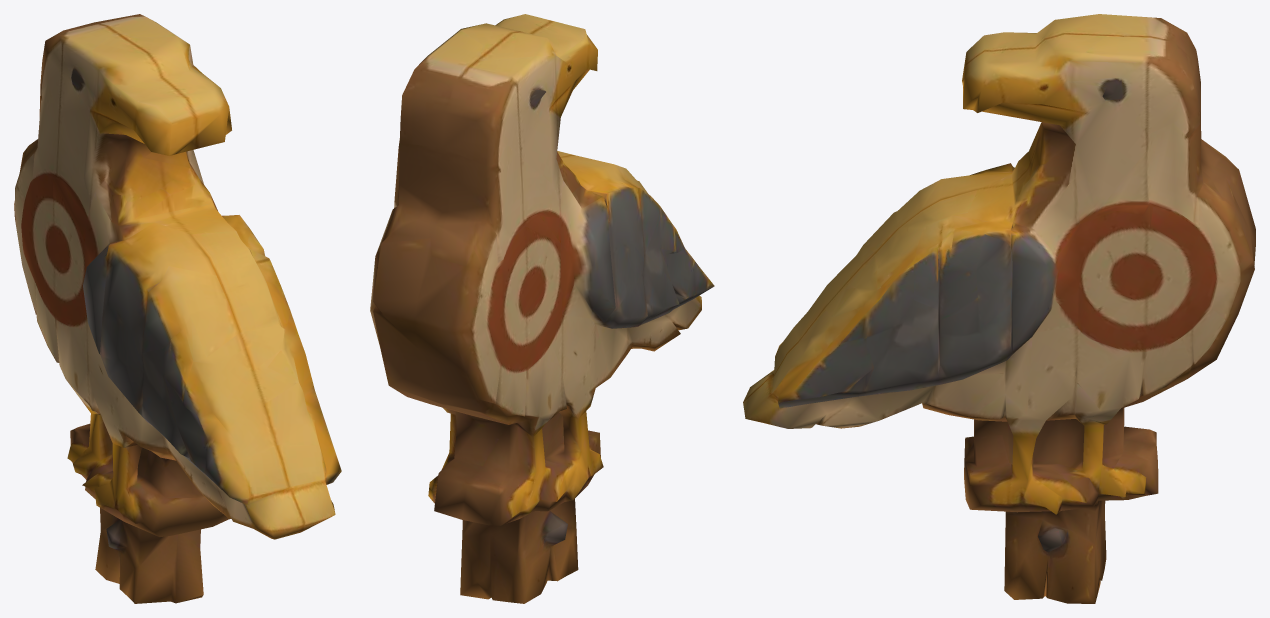
File: model-prop-wooden-gull-target-01.glb
The picture shows the model from 3 angles, left to right: view 1: azimuth 30°, elevation 25°; view 2: azimuth 150°, elevation 25°; view 3: azimuth 270°, elevation 25°; orthographic projection. The views are drawn at different scales.
Parts seen in each view (by area): view 1: tripo_node_c755c435-d1c4-451f-bd69-adf8323e1b77; view 2: tripo_node_c755c435-d1c4-451f-bd69-adf8323e1b77; view 3: tripo_node_c755c435-d1c4-451f-bd69-adf8323e1b77.
Boxes of the visible parts, x1,y1,x2,y2 form: tripo_node_c755c435-d1c4-451f-bd69-adf8323e1b77: (14,14,341,603); tripo_node_c755c435-d1c4-451f-bd69-adf8323e1b77: (370,14,714,603); tripo_node_c755c435-d1c4-451f-bd69-adf8323e1b77: (743,14,1255,603).
Bounding box in the file's own units: 0.3494 × 1.2 × 1.01.
1 material, 1 textured.
